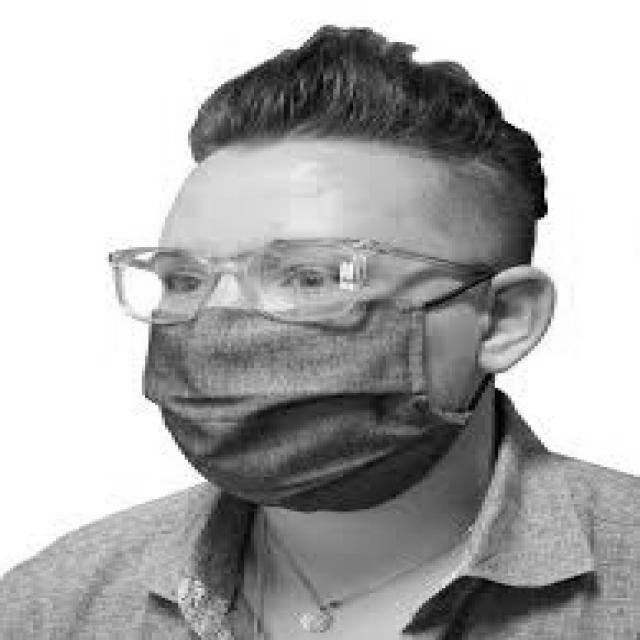fake: (142, 301, 474, 510)
real: (153, 146, 457, 517)
